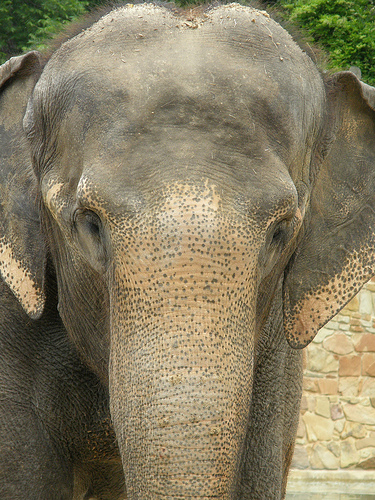elephant: (1, 2, 371, 500)
